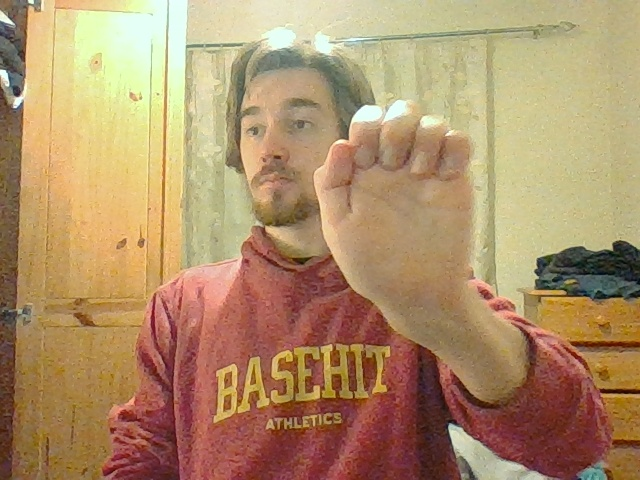your: (312, 98, 476, 291)
